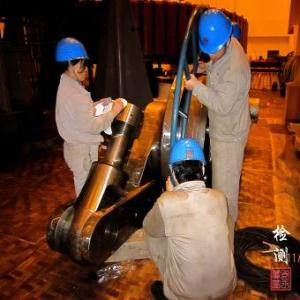blue: (169, 134, 208, 187), (197, 9, 236, 62), (56, 39, 89, 81)
